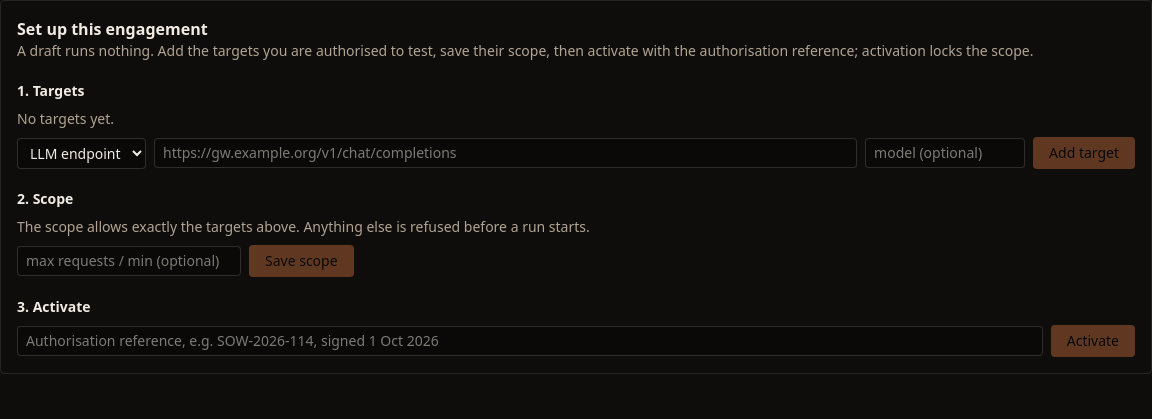
Test: engagement setup panel › shows the API's refusal
The width and height of the screenshot is (1152, 419).
Select "MCP server" in the dropdown named "target type": x=82, y=153 [17,138,146,168]
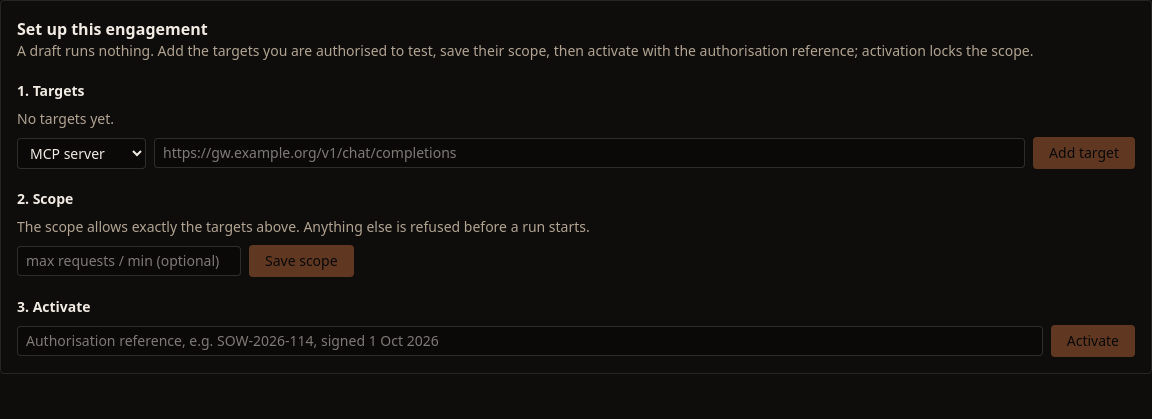
Expected: the field labelled "model" is gone
In the field named "target URL": x=590, y=153 [154,138,1025,168], type "https://tools.acme.test/mcp"
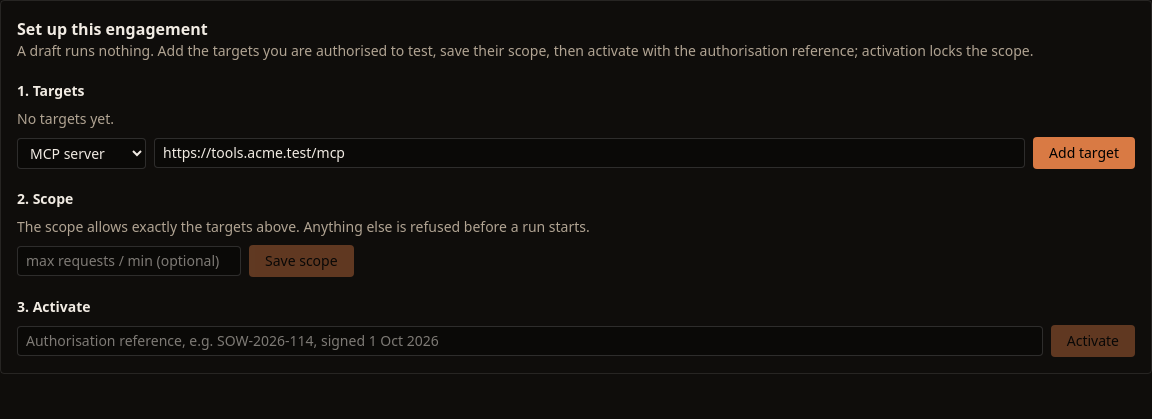
Click the button "Add target": x=1084, y=153 [1033,137,1135,169]
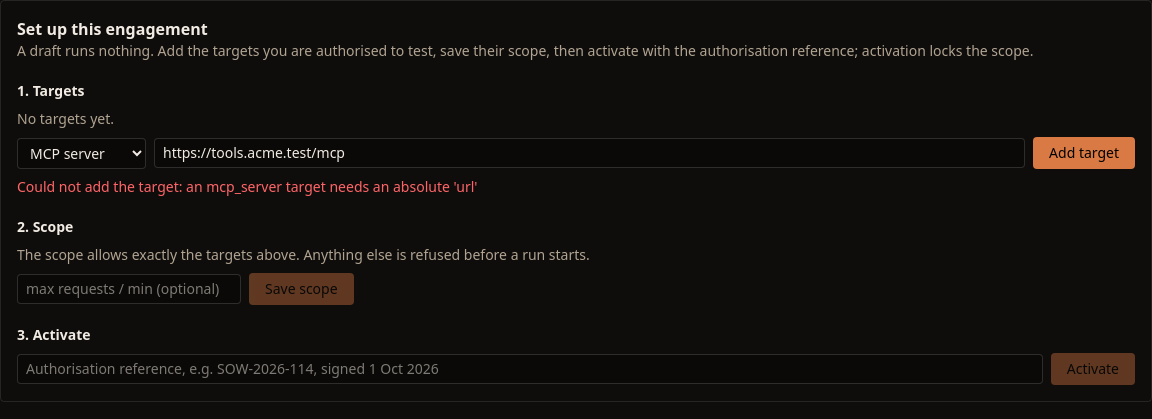
Expected: the message shows "Could not add the target: an mcp_server target needs", [17,177,477,196]
